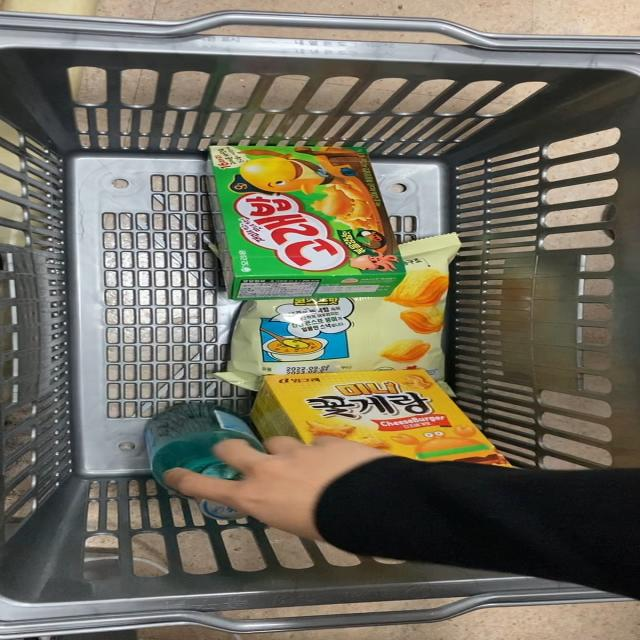ggobukchip: (229, 283, 450, 369)
goraebob: (191, 139, 402, 296)
jinro: (143, 399, 250, 487)
minicrab: (271, 376, 519, 465)
